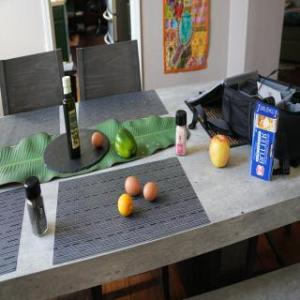bell_pepper: (112, 126, 138, 162)
egg: (142, 180, 158, 202), (124, 174, 140, 196), (92, 130, 104, 150)
